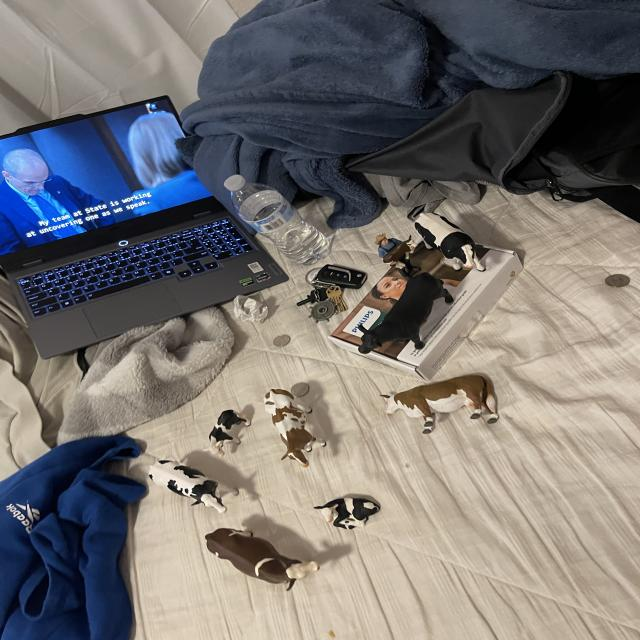cow: (354, 261, 459, 380), (198, 515, 321, 601), (381, 371, 500, 440), (256, 378, 332, 475), (405, 205, 495, 284), (144, 452, 236, 515), (314, 485, 385, 540), (203, 406, 252, 460), (380, 235, 419, 269)
person: (367, 227, 403, 262)
